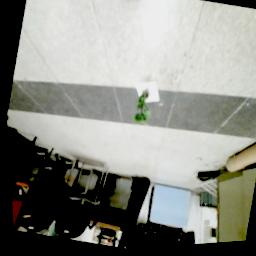herb: (128, 89, 156, 131)
